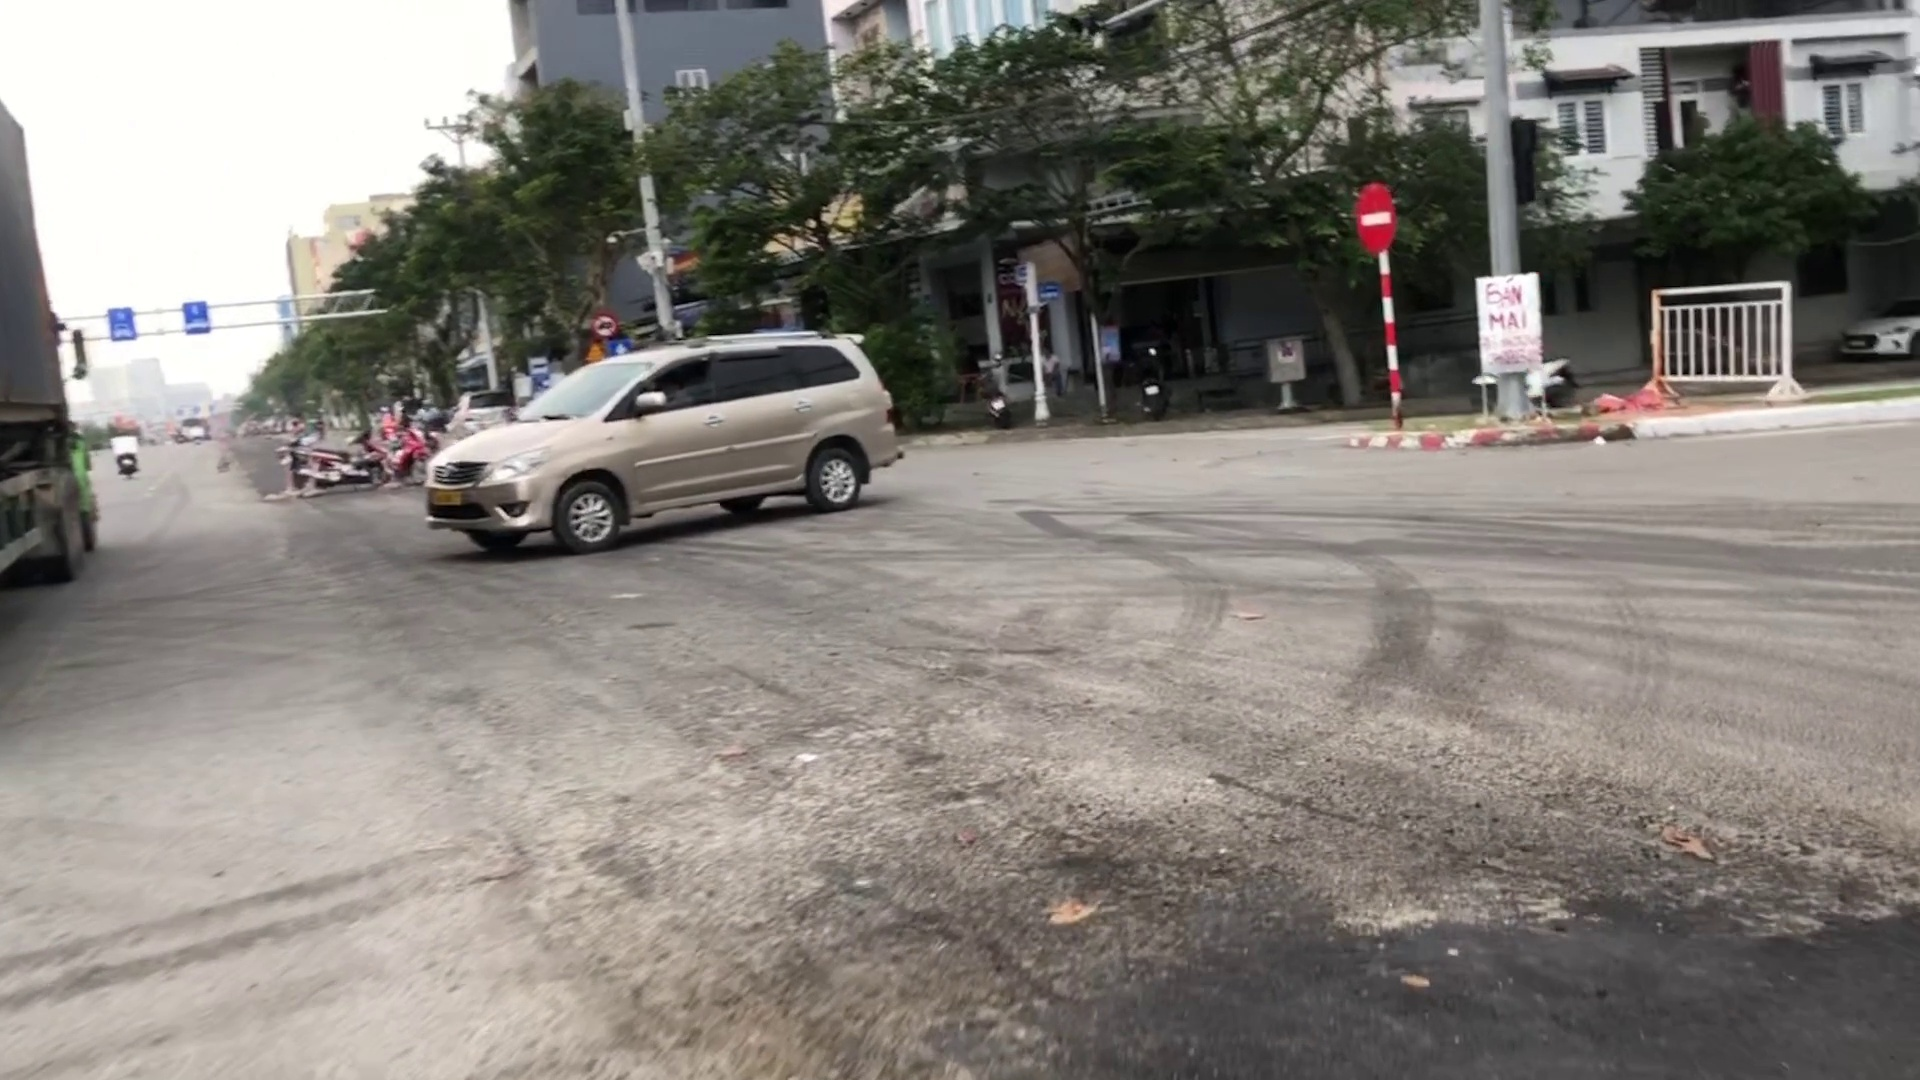Cam di nguoc chieu: (1352, 179, 1400, 257)
